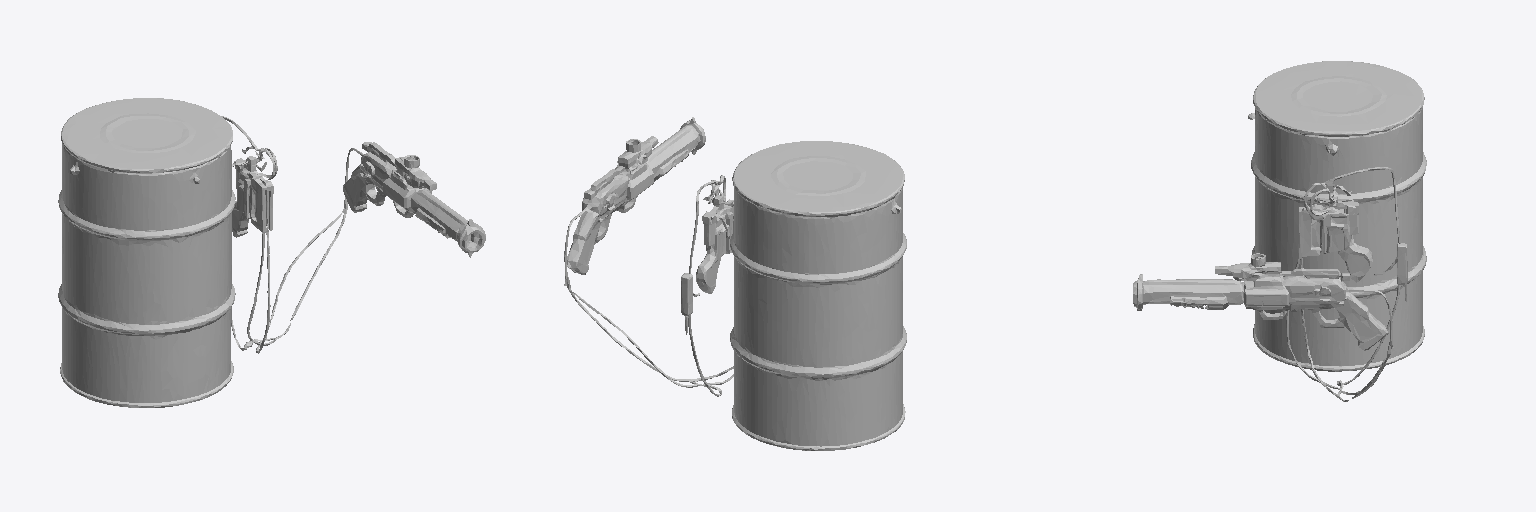
File: poison_gun.obj
3 views of the same model, side by side, from view 1: azimuth 30°, elevation 25°; view 2: azimuth 150°, elevation 25°; view 3: azimuth 270°, elevation 25° (orthographic).
Visible parts, largest first — view 1: a_stylized_cylindrica_[number redacted]_texture; view 2: a_stylized_cylindrica_[number redacted]_texture; view 3: a_stylized_cylindrica_[number redacted]_texture.
Boxes of the visible parts, x1=… form: a_stylized_cylindrica_[number redacted]_texture: x1=58, y1=98, x2=485, y2=407; a_stylized_cylindrica_[number redacted]_texture: x1=564, y1=117, x2=906, y2=450; a_stylized_cylindrica_[number redacted]_texture: x1=1133, y1=61, x2=1426, y2=401.
Size of the model in its own units: 2 by 1.45 by 1.59.